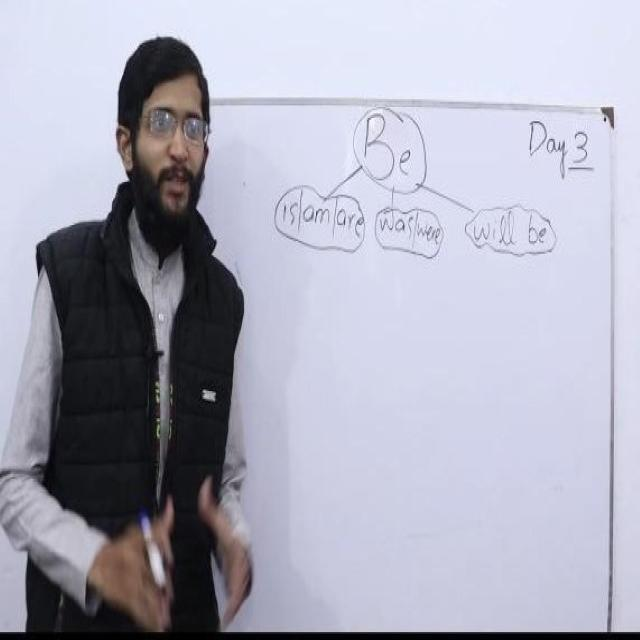Instructor: (80, 41, 222, 622)
White-board: (132, 89, 610, 639)
